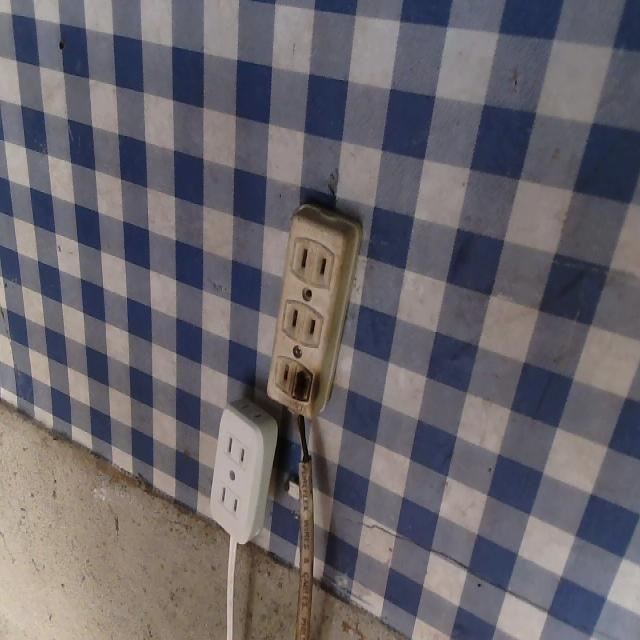-: (285, 357, 323, 411)
